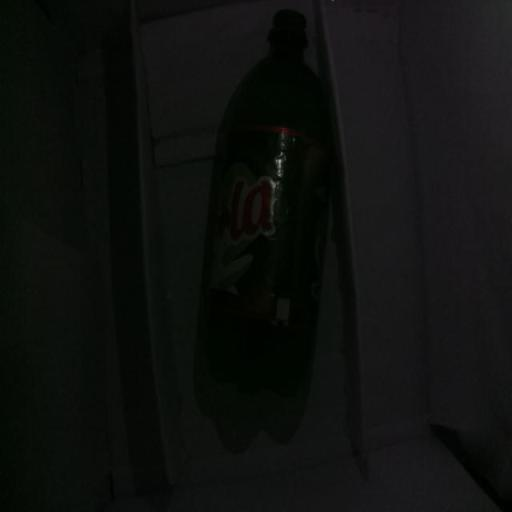bottle: (166, 0, 353, 457)
